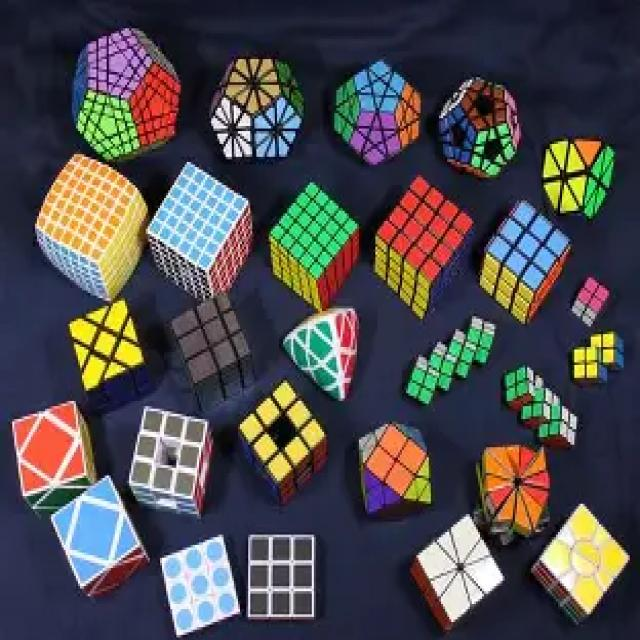Rubiks Cube: (24, 149, 157, 309), (60, 19, 188, 167), (144, 152, 258, 312), (371, 170, 477, 326), (523, 491, 638, 633), (44, 469, 154, 609), (263, 175, 368, 317), (397, 504, 510, 633), (123, 391, 225, 530), (231, 376, 334, 510), (481, 190, 576, 332), (326, 48, 433, 174), (202, 39, 308, 164), (434, 52, 528, 190), (164, 284, 261, 415), (4, 392, 100, 524), (59, 290, 157, 415), (347, 411, 447, 528), (396, 307, 499, 412), (274, 299, 373, 407), (471, 430, 555, 546), (155, 528, 242, 640), (243, 524, 320, 640), (496, 360, 586, 456), (540, 124, 619, 230), (567, 326, 630, 392), (568, 270, 616, 332)
